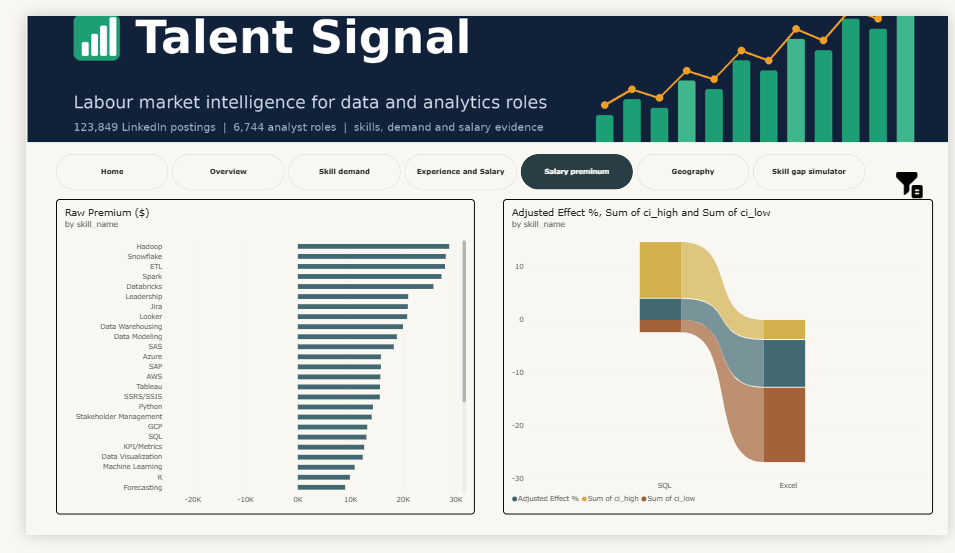

Layout of this report page (visuals, bound fields, positions):
{"tool":"powerbi","page":{"name":"Salary preminum ","canvas":[1920,1080],"ordinal":4},"visuals":[{"type":"ribbonChart","fields":{"Category":["public dim_skill.skill_name"],"Y":["_Measures.Adjusted Effect %","Sum(skill_premium_adjusted.ci_high)","Sum(skill_premium_adjusted.ci_low)"]},"box":[993.6,380.9,895.7,657.4],"z":0},{"type":"pageNavigator","box":[61.7,287.2,1691.5,74.5],"z":1000},{"type":"image","box":[1807.9,324.5,62,54.9],"z":3000},{"type":"barChart","fields":{"Category":["public dim_skill.skill_name"],"Y":["_Measures.Raw Premium ($)"]},"box":[61.7,380.9,872.3,657.4],"z":5000},{"type":"image","box":[2.9,0,1918.5,263],"z":7000}]}

Visuals, with their boxes in screenshot pixels (x1, y1, x2, y2), scaled from the page's 1920x1080 canvas onto the 955x553 screenshot:
ribbonChart - public dim_skill.skill_name x _Measures.Adjusted Effect %: Rect(494, 195, 940, 532)
pageNavigator: Rect(31, 147, 872, 185)
image: Rect(899, 166, 930, 194)
barChart - public dim_skill.skill_name x _Measures.Raw Premium ($): Rect(31, 195, 465, 532)
image: Rect(1, 0, 954, 135)
